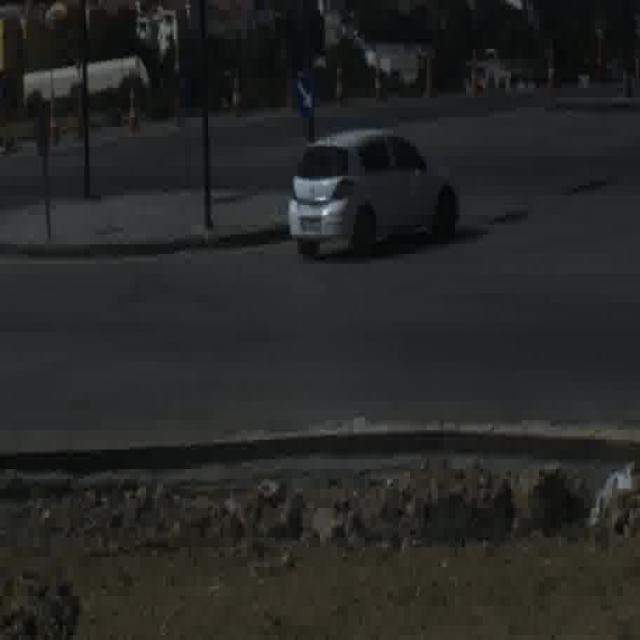Car: (288, 130, 460, 256)
